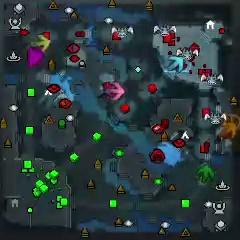p3: (28, 47, 43, 68)
x1: (106, 81, 124, 100)
x2: (32, 34, 51, 52)
x3: (167, 56, 184, 74)
x4: (197, 166, 215, 183)
x5: (221, 119, 236, 139)
